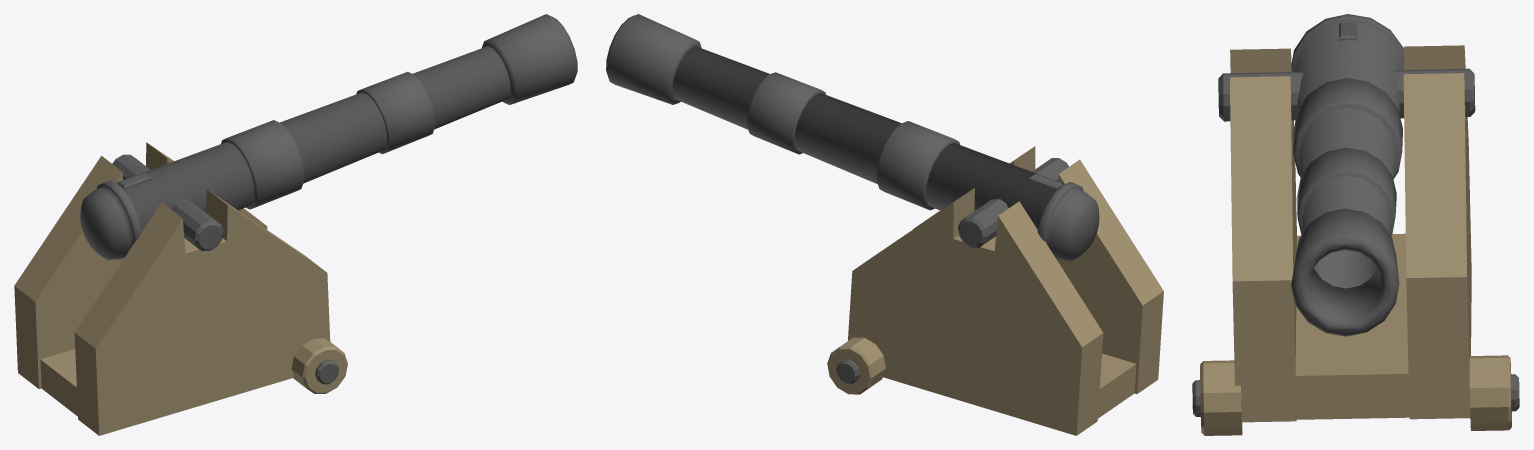
The model's file is sloop-cannon-starboard.glb.
The picture shows the model from 3 angles, left to right: view 1: azimuth 30°, elevation 25°; view 2: azimuth 150°, elevation 25°; view 3: azimuth 270°, elevation 25°; orthographic projection. The views are drawn at different scales.
Parts seen in each view (by area): view 1: Cube.089, Cylinder.064, Cube.088, Cylinder.065, Cylinder.067, Cylinder.066, Cylinder.070, Cube.090, Cylinder.069, Cylinder.068; view 2: Cube.088, Cylinder.064, Cube.089, Cylinder.065, Cylinder.067, Cylinder.066, Cylinder.062, Cube.090, Cylinder.068; view 3: Cube.088, Cube.089, Cylinder.064, Cube.090, Cylinder.065, Cylinder.067, Cylinder.066, Cylinder.062, Cylinder.070, Cylinder.069, Cylinder.068, Cube.091 (+1 smaller).
Boxes of the visible parts, left/top/right/bottom form: Cube.089: left=74, top=189, right=330, bottom=435; Cylinder.064: left=80, top=46, right=510, bottom=259; Cube.088: left=14, top=142, right=267, bottom=389; Cylinder.065: left=482, top=14, right=577, bottom=104; Cylinder.067: left=221, top=120, right=304, bottom=209; Cylinder.066: left=356, top=71, right=435, bottom=154; Cylinder.070: left=291, top=338, right=347, bottom=393; Cube.090: left=40, top=349, right=77, bottom=416; Cylinder.069: left=171, top=199, right=223, bottom=251; Cylinder.068: left=112, top=154, right=150, bottom=179; Cube.088: left=848, top=188, right=1103, bottom=435; Cylinder.064: left=672, top=46, right=1099, bottom=261; Cube.089: left=913, top=146, right=1163, bottom=393; Cylinder.065: left=606, top=14, right=701, bottom=104; Cylinder.067: left=876, top=121, right=960, bottom=210; Cylinder.066: left=747, top=72, right=825, bottom=154; Cylinder.062: left=827, top=337, right=885, bottom=394; Cube.090: left=1098, top=353, right=1136, bottom=418; Cylinder.068: left=958, top=199, right=1008, bottom=247; Cube.088: left=1403, top=45, right=1471, bottom=419; Cube.089: left=1230, top=48, right=1296, bottom=422; Cylinder.064: left=1291, top=14, right=1404, bottom=288; Cube.090: left=1295, top=233, right=1409, bottom=419; Cylinder.065: left=1291, top=208, right=1399, bottom=336; Cylinder.067: left=1293, top=78, right=1402, bottom=178; Cylinder.066: left=1297, top=147, right=1396, bottom=235; Cylinder.062: left=1469, top=355, right=1511, bottom=430; Cylinder.070: left=1200, top=360, right=1242, bottom=435; Cylinder.069: left=1218, top=72, right=1303, bottom=121; Cylinder.068: left=1393, top=68, right=1475, bottom=118; Cube.091: left=1338, top=22, right=1357, bottom=40.
Bounding box in the file's own units: 1.25 × 0.6432 × 0.4845.
